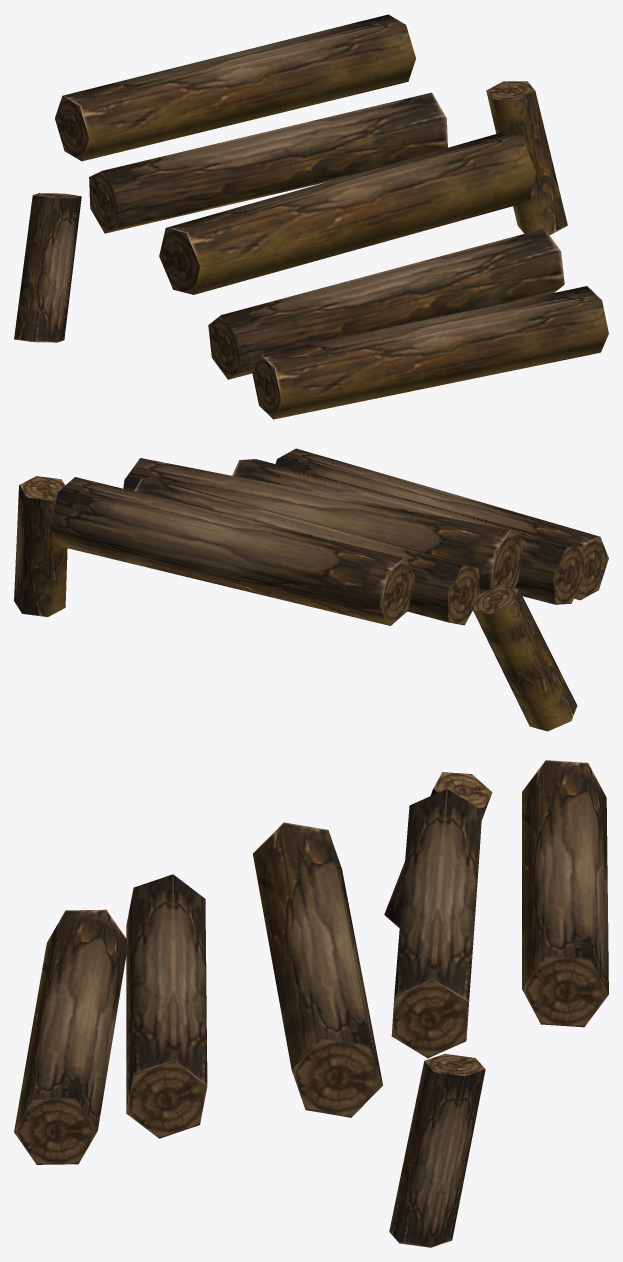
File: lumina_stair_base2_p2_03.FBX
3 renders of one model, top to bottom at view 1: azimuth 30°, elevation 25°; view 2: azimuth 150°, elevation 25°; view 3: azimuth 270°, elevation 25°, orthographic. The views are drawn at different scales.
Parts seen in each view (by area): view 1: Object01; view 2: Object01; view 3: Object01.
Boxes of the visible parts, box(x1,y1,x2,y2) form: Object01: box(14, 14, 608, 419); Object01: box(14, 448, 608, 731); Object01: box(14, 760, 608, 1247).
Bounding box in the file's own units: 7.01 × 2.28 × 5.31.
